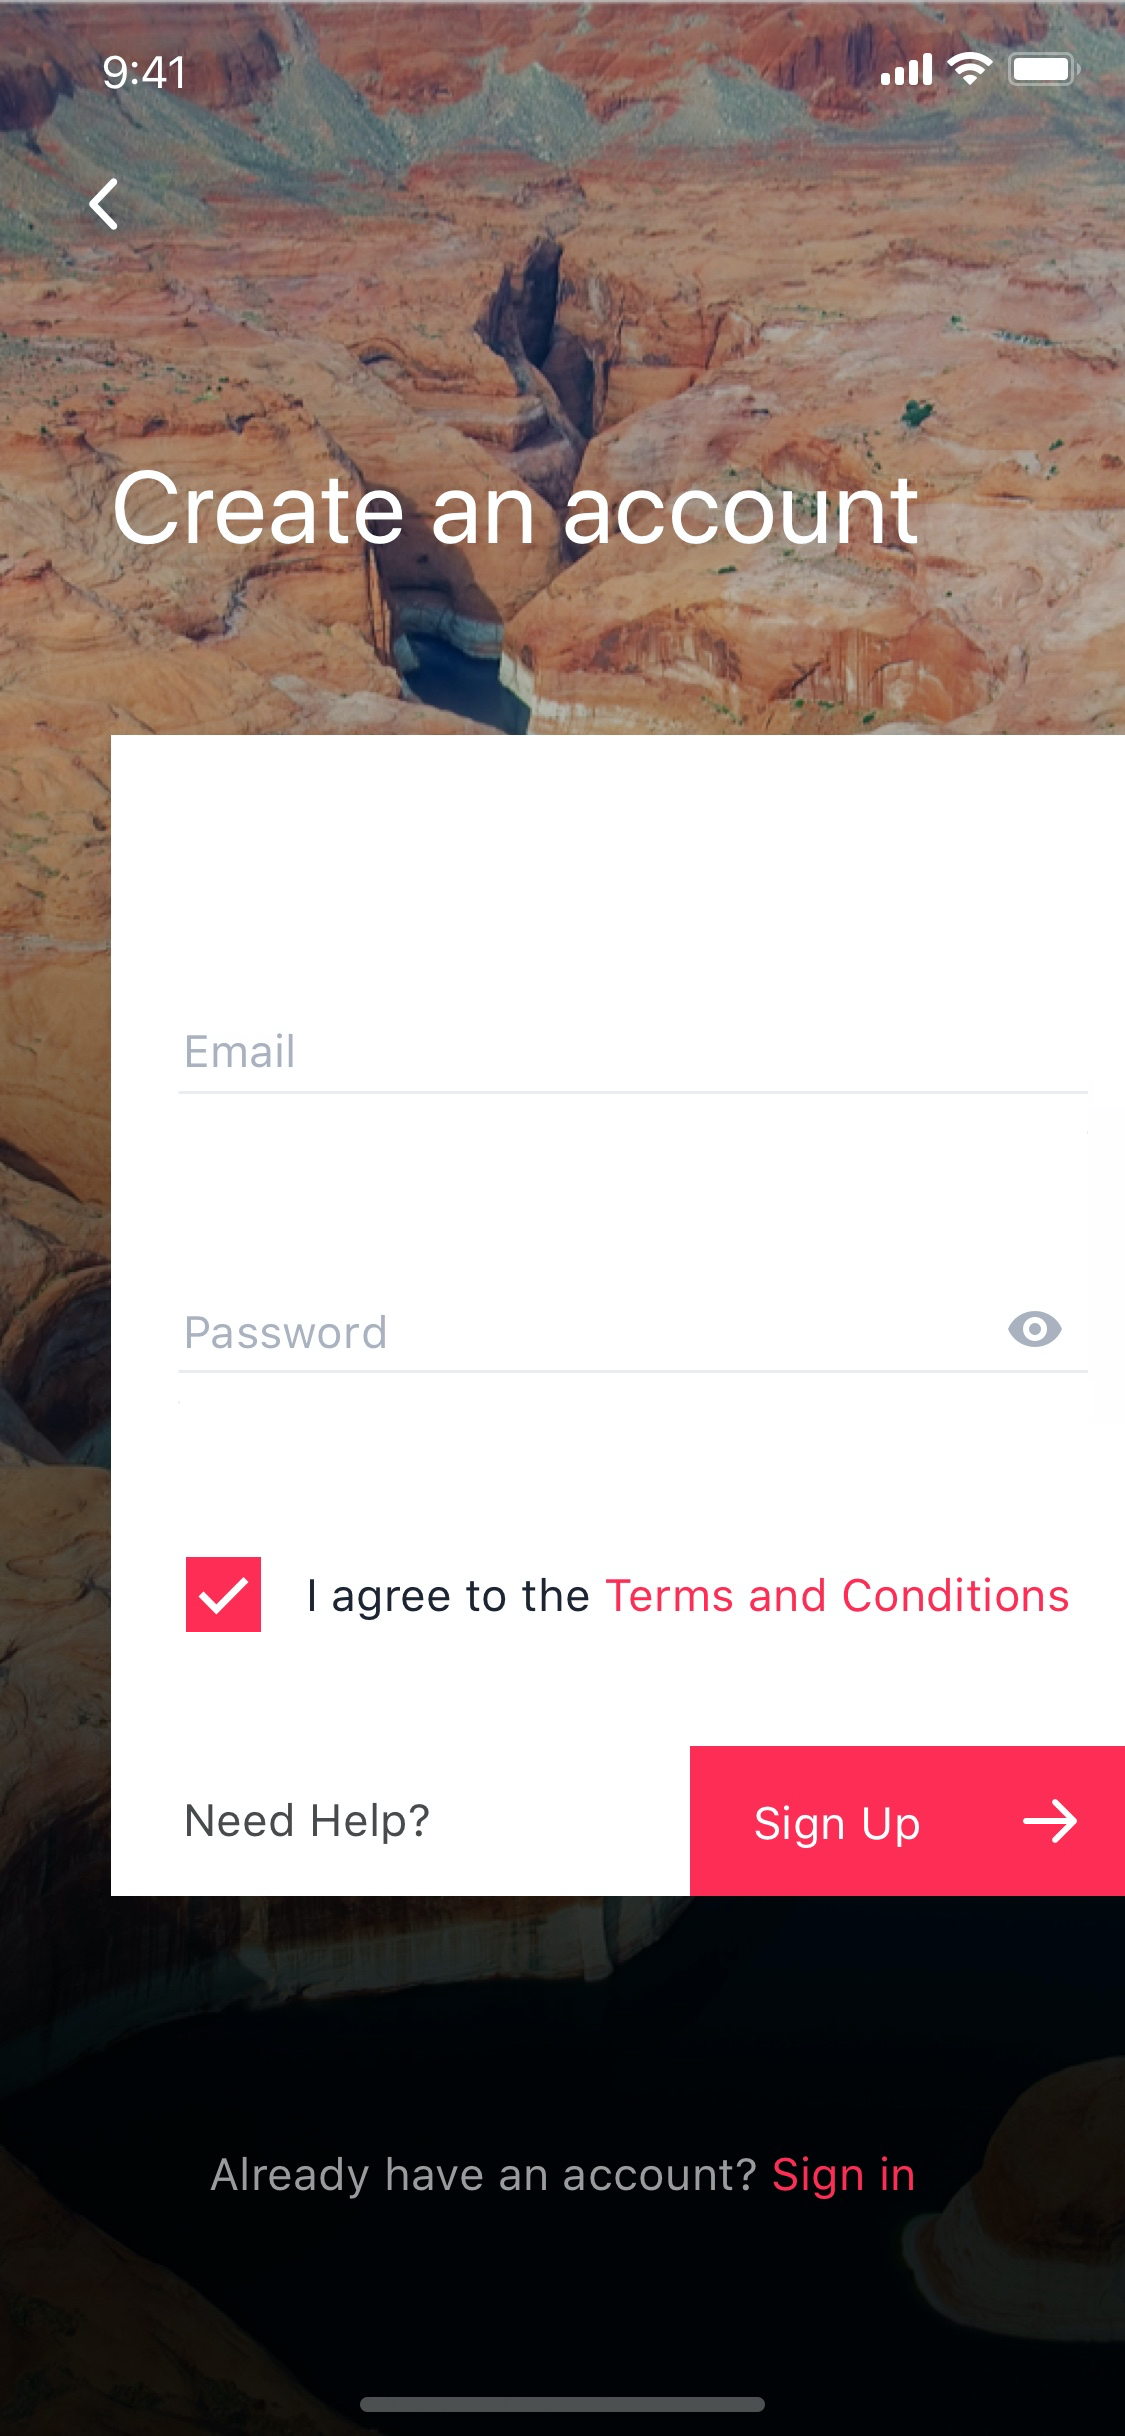BackgroundImage: (2, 2, 1125, 2436)
CheckedTextView: (186, 1557, 1069, 1633)
EditText: (179, 1033, 1089, 1095), (179, 1311, 1089, 1373)
Icon: (1008, 1311, 1063, 1348), (89, 179, 120, 231)
Text: (113, 469, 918, 545), (309, 1575, 1069, 1622), (210, 2156, 915, 2201), (186, 1802, 430, 1846)
TextButton: (690, 1746, 1125, 1895)
UpperTaskBar: (104, 51, 1081, 92)
